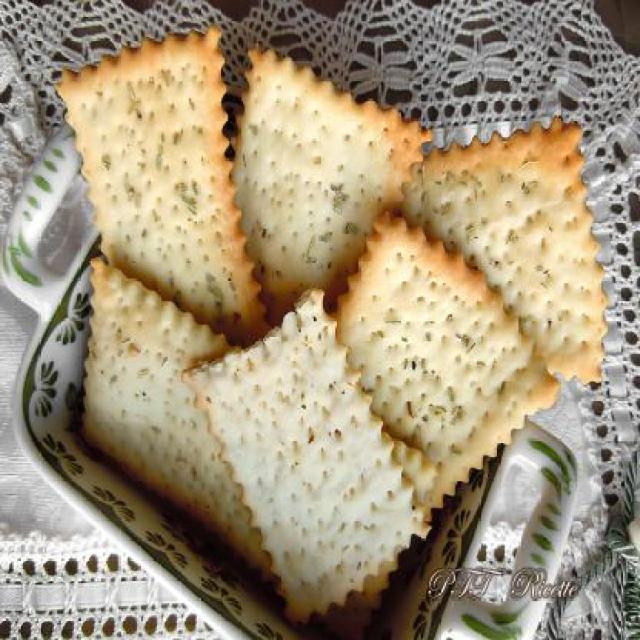Cracker packaged: (50, 26, 272, 420), (194, 298, 426, 618), (334, 203, 562, 526)
